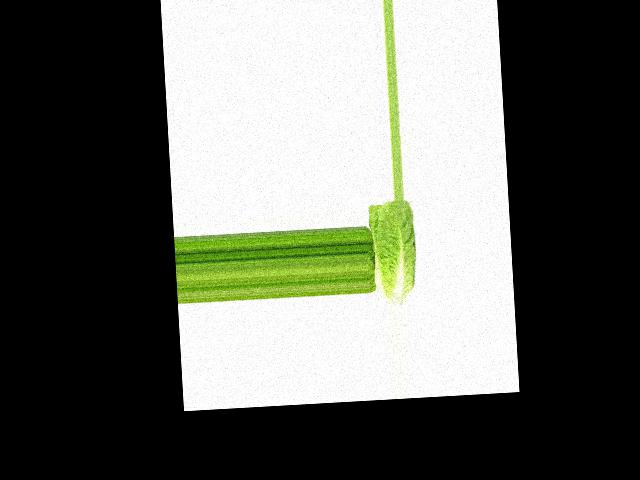lettuce: (369, 198, 425, 306)
